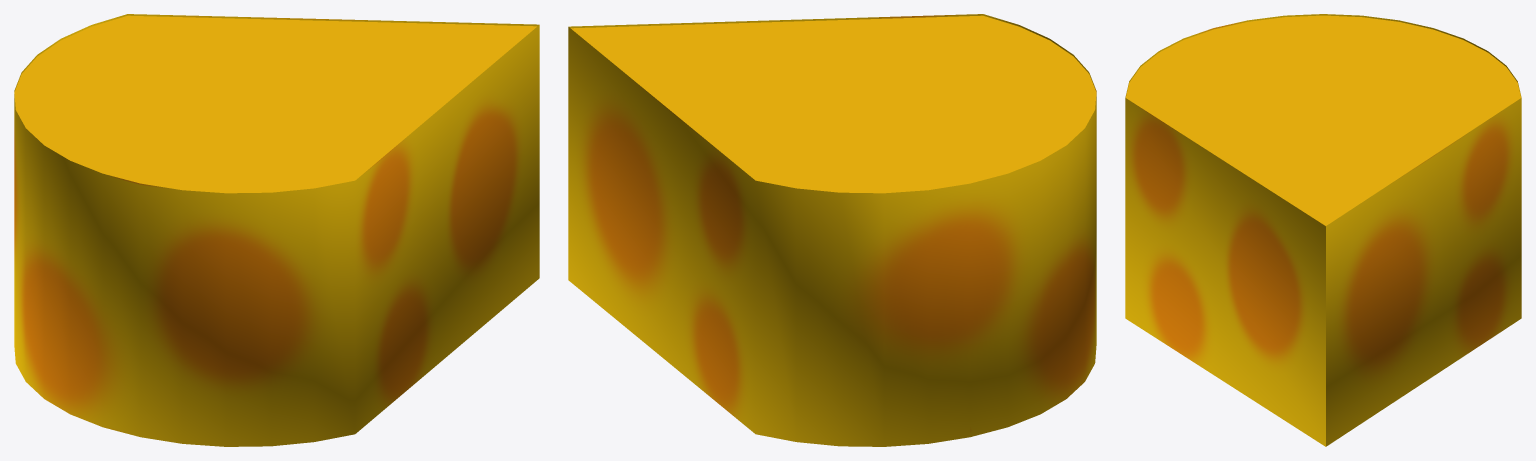
File: Cheese.fbx
3 views of the same model, side by side, from view 1: azimuth 30°, elevation 25°; view 2: azimuth 150°, elevation 25°; view 3: azimuth 270°, elevation 25° (orthographic). The views are drawn at different scales.
Visible parts, largest first — view 1: Cylinder; view 2: Cylinder; view 3: Cylinder.
Boxes of the visible parts, x1,y1,x2,y2 form: Cylinder: (14, 14, 539, 446); Cylinder: (568, 14, 1096, 446); Cylinder: (1125, 14, 1521, 446).
Bounding box in the file's own units: 143 × 70 × 113.
